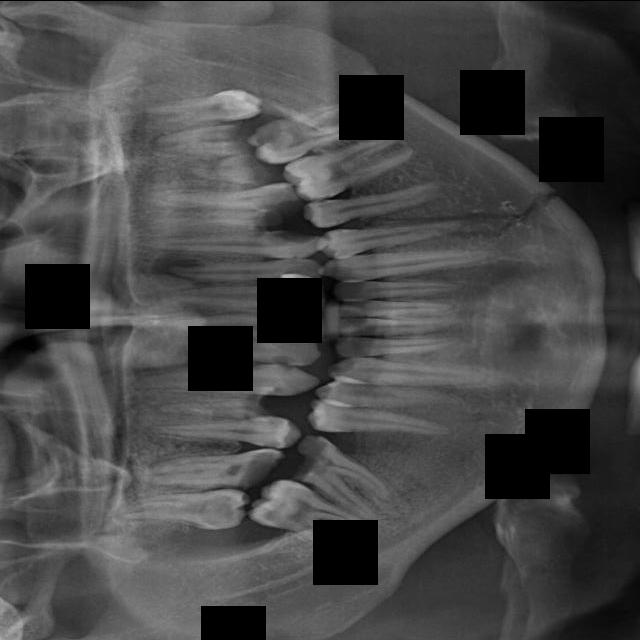AGS Medikal Implant: (320, 126, 321, 126)
AMerOss Implant: (364, 161, 365, 161)
Amalgam filling: (111, 486, 252, 533)
Anthogyr Implant: (298, 177, 446, 232)
Bicon Implant: (319, 209, 464, 258)
BioHorizons Implant: (325, 244, 501, 282)
BioLife Implant: (330, 275, 468, 301)
Biomet 3i Implant: (336, 295, 462, 318)
Blue Sky Bio Implant: (337, 317, 462, 336)
Camlog Implant: (334, 333, 465, 357)
Caries: (163, 258, 326, 285)
Composite filling: (324, 352, 495, 393)
Cowellmedi Implant: (313, 378, 475, 415)
Crown: (300, 396, 457, 455)
DENTSPLY Implant: (139, 445, 291, 499)
Dentis Implant: (355, 482, 355, 483)
Dentium Implant: (244, 468, 382, 565)
Euroteknika Implant: (141, 403, 305, 451)
Filling: (155, 393, 273, 424)
Frontier Implant: (127, 355, 322, 399)
Hiossen Implant: (128, 227, 320, 261)
Implant: (162, 304, 330, 342)
Implant Direct: (166, 334, 326, 368)
Keystone Dental Implant: (156, 281, 327, 312)
MIS Implant: (137, 208, 287, 228)
Mandible: (149, 178, 300, 220)
Maxilla: (176, 151, 270, 196)
Megagen Implant: (147, 121, 251, 165)
Neodent Implant: (134, 87, 266, 126)
